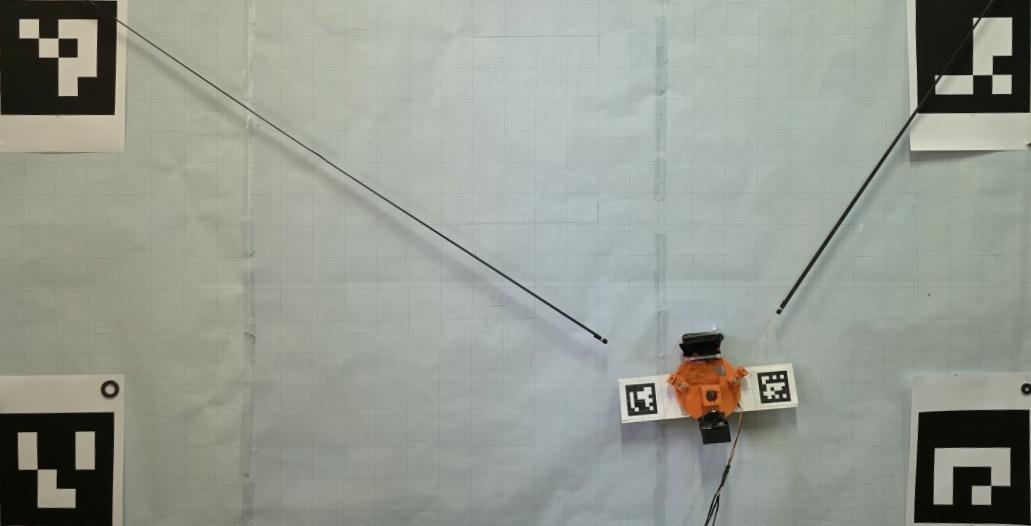robot: (666, 331, 748, 445)
